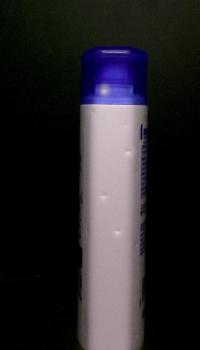dent_marginal: (115, 138, 136, 164), (96, 186, 116, 210), (110, 223, 128, 244)
